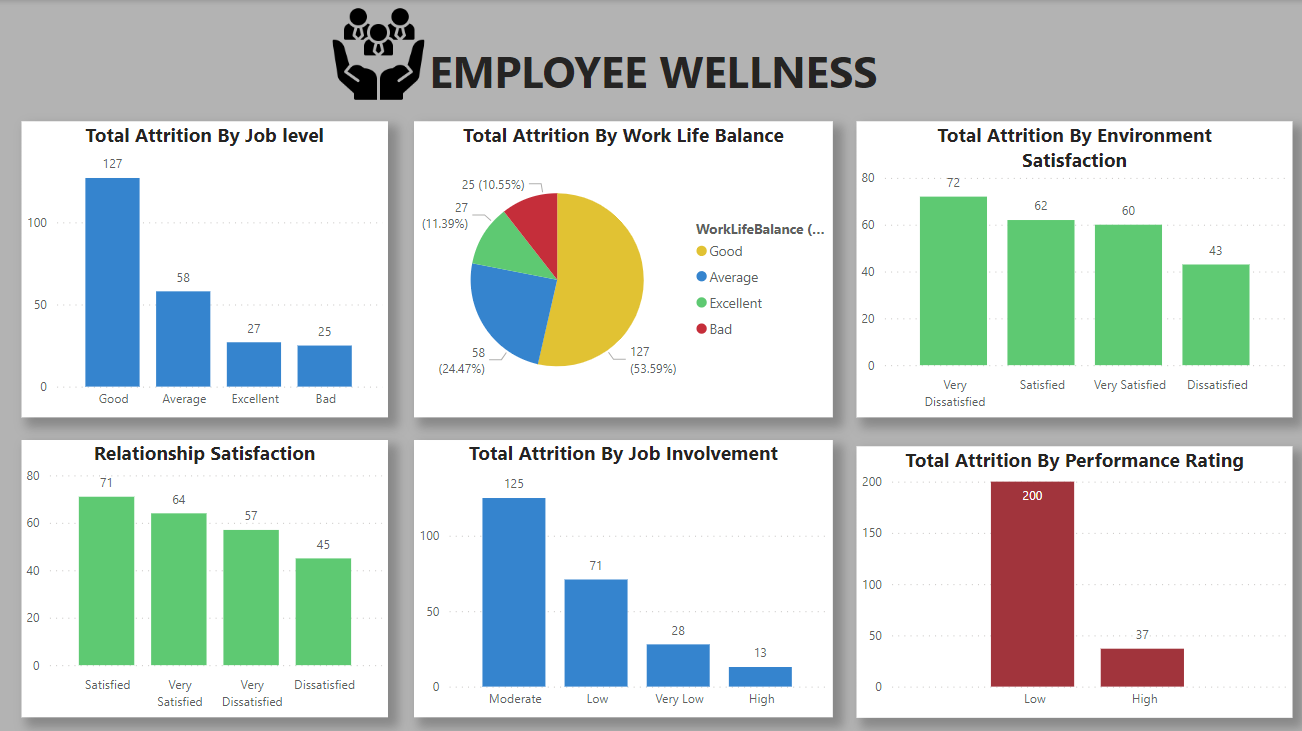

The dashboard page shown, as its layout file describes it:
{"tool":"powerbi","page":{"name":"Employee Wellness ","canvas":[1280,720],"ordinal":4},"visuals":[{"type":"textbox","box":[0,0,1279.9,106.3],"z":0},{"type":"columnChart","title":"Total Attrition By Job level","fields":{"Category":["HR-Employee-Attrition.WorkLifeBalance (groups)"],"Y":["Sum(HR-Employee-Attrition.Attrition Count)"]},"box":[22,118.6,358.2,289.7],"z":1000},{"type":"columnChart","title":"Total Attrition By Performance Rating","fields":{"Category":["HR-Employee-Attrition.PerformanceRating (groups)"],"Y":["Sum(HR-Employee-Attrition.Attrition Count)"]},"box":[838.6,436.4,426.6,265.3],"z":2000},{"type":"columnChart","title":"Total Attrition By Job Involvement","fields":{"Y":["Sum(HR-Employee-Attrition.Attrition Count)"],"Category":["HR-Employee-Attrition.JobInvolvement (groups)"]},"box":[405.8,430.3,409.5,271.4],"z":3000},{"type":"donutChart","title":"Total Attrition By Work Life Balance","fields":{"Y":["Sum(HR-Employee-Attrition.Attrition Count)"],"Category":["HR-Employee-Attrition.WorkLifeBalance (groups)"]},"box":[405.8,118.6,409.5,289.7],"z":4000},{"type":"columnChart","title":"Total Attrition By Environment Satisfaction","fields":{"Y":["Sum(HR-Employee-Attrition.Attrition Count)"],"Category":["HR-Employee-Attrition.EnvironmentSatisfaction (groups)"]},"box":[838.6,118.6,426.6,289.7],"z":5000},{"type":"image","box":[321.5,0,99,106.3],"z":6000},{"type":"columnChart","title":"Relationship Satisfaction","fields":{"Y":["Sum(HR-Employee-Attrition.Attrition Count)"],"Category":["HR-Employee-Attrition.RelationshipSatisfaction (groups)"]},"box":[22,430.3,358.2,271.4],"z":7000}]}

Visuals, with their boxes in screenshot pixels (x1, y1, x2, y2), scaled from the page's 1280x720 canvas onto the 1302x731 screenshot:
textbox: crop(0, 0, 1301, 108)
"Total Attrition By Job level" columnChart: crop(22, 120, 387, 415)
"Total Attrition By Performance Rating" columnChart: crop(853, 443, 1287, 712)
"Total Attrition By Job Involvement" columnChart: crop(413, 437, 829, 712)
"Total Attrition By Work Life Balance" donutChart: crop(413, 120, 829, 415)
"Total Attrition By Environment Satisfaction" columnChart: crop(853, 120, 1287, 415)
image: crop(327, 0, 428, 108)
"Relationship Satisfaction" columnChart: crop(22, 437, 387, 712)
